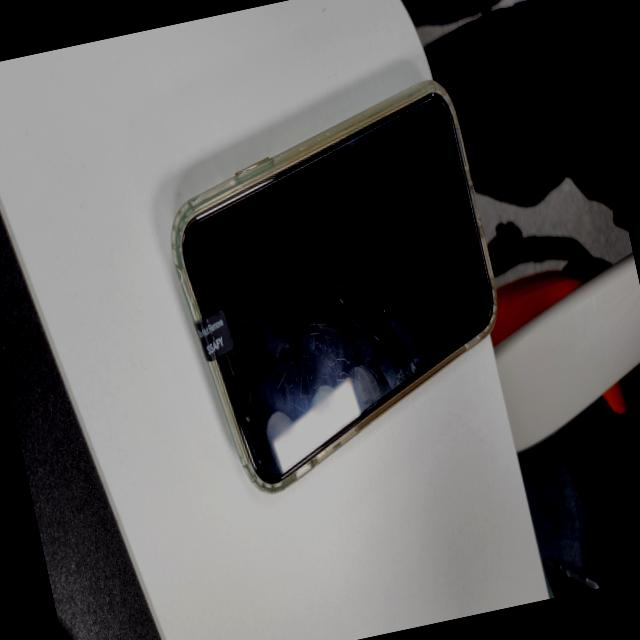phone: (149, 77, 526, 505)
sticker: (189, 306, 237, 364)
